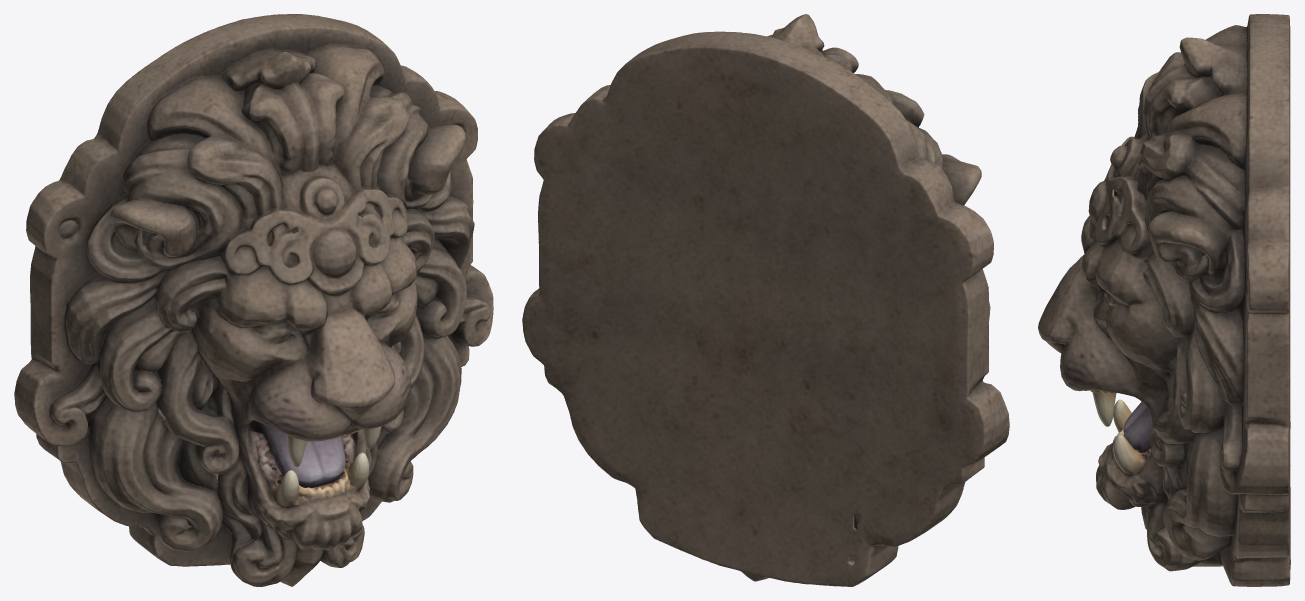
File: generation_lion_relief_1.glb
3 views of the same model, side by side, from view 1: azimuth 30°, elevation 25°; view 2: azimuth 150°, elevation 25°; view 3: azimuth 270°, elevation 25° (orthographic). The views are drawn at different scales.
Visible parts, largest first — view 1: geometry_0; view 2: geometry_0; view 3: geometry_0.
Part boxes in pixels (box(x1,y1,x2,y2)): geometry_0: box(14, 14, 493, 586); geometry_0: box(522, 14, 1009, 586); geometry_0: box(1038, 14, 1290, 586).
Size of the model in its own units: 0.9047 by 1 by 0.4328.
Materials: 1 (1 with a texture image).
